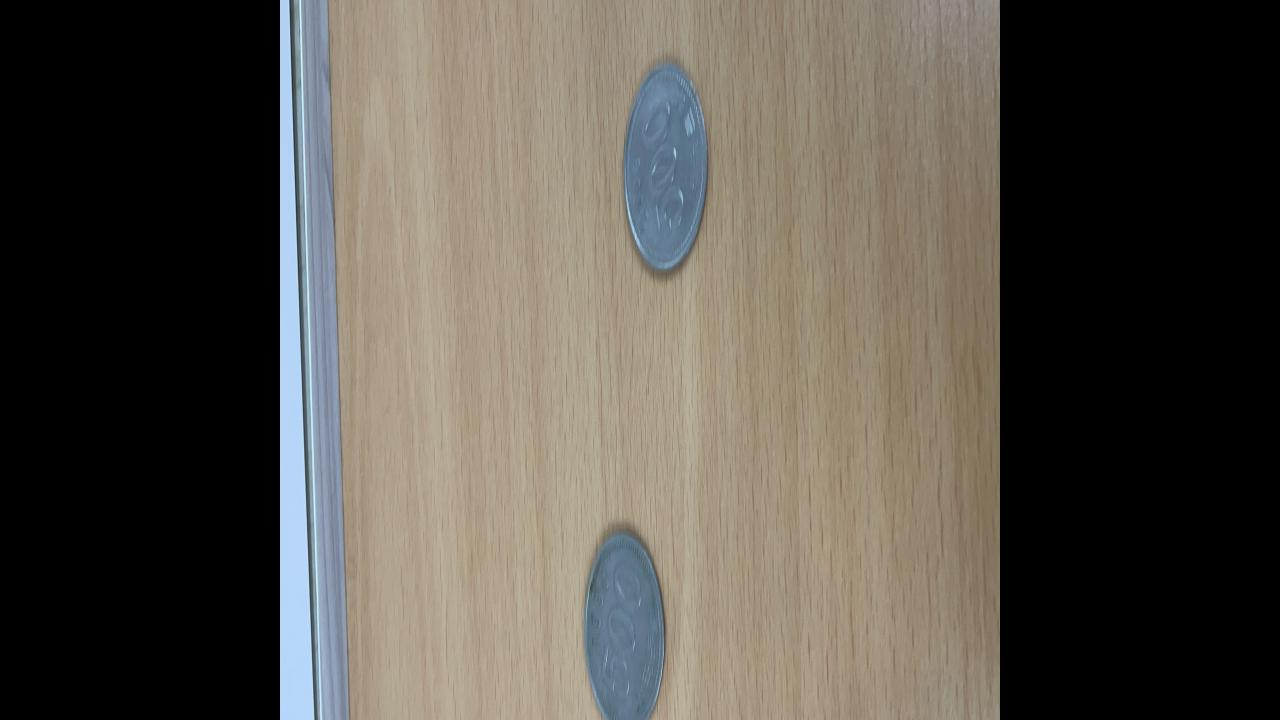coin: (624, 63, 708, 273), (581, 523, 667, 720)
